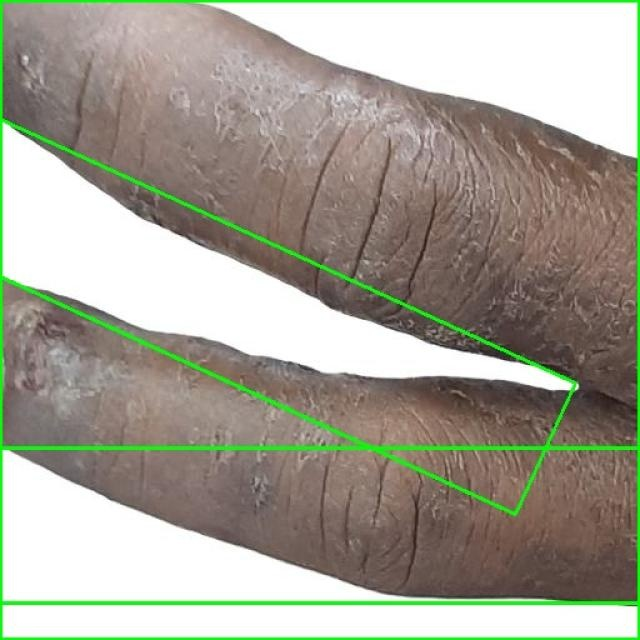Eczema: (0, 0, 639, 602), (0, 95, 581, 514), (0, 448, 639, 639)
